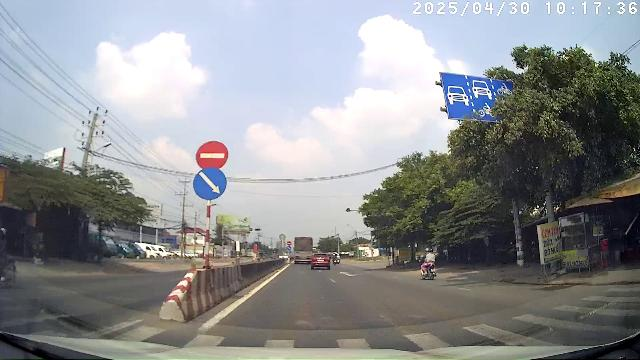102-cam-di-nguoc-chieu: (196, 140, 228, 168)
302a-huong-phai-di-vong-chuong-ngai-vat-1: (193, 168, 227, 200)
